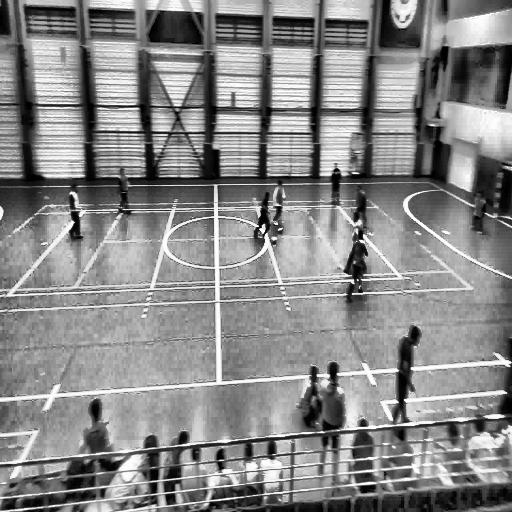ball: (270, 234, 276, 244)
player: (313, 363, 345, 477), (390, 324, 422, 429), (343, 228, 368, 302), (344, 212, 367, 276), (68, 180, 83, 240), (254, 190, 271, 240), (272, 181, 285, 236), (118, 168, 132, 214), (470, 192, 485, 234), (354, 186, 367, 230), (330, 166, 341, 205)
